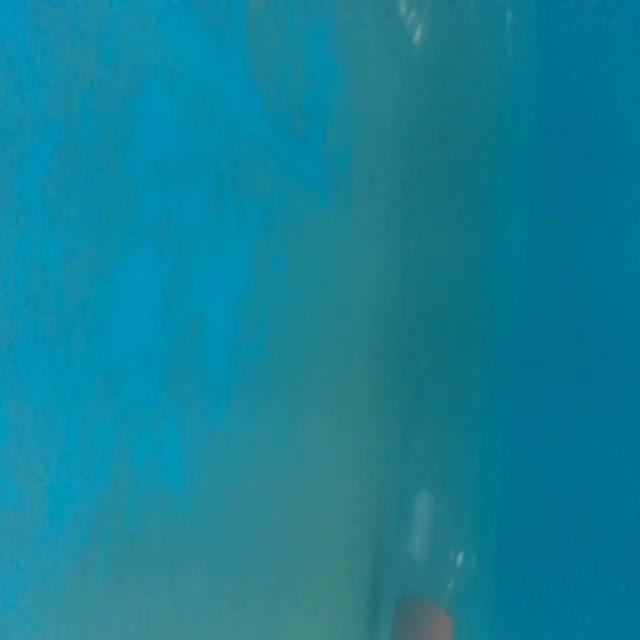plastic bottle: (372, 276, 504, 640)
